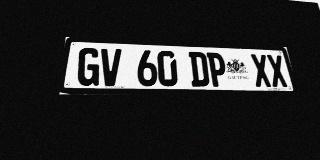0: (157, 50, 178, 86)
6: (137, 50, 158, 86)
D: (188, 52, 210, 87)
G: (76, 47, 100, 86)
P: (206, 52, 228, 87)
V: (99, 48, 121, 86)
X: (266, 55, 289, 87), (250, 54, 272, 87)
